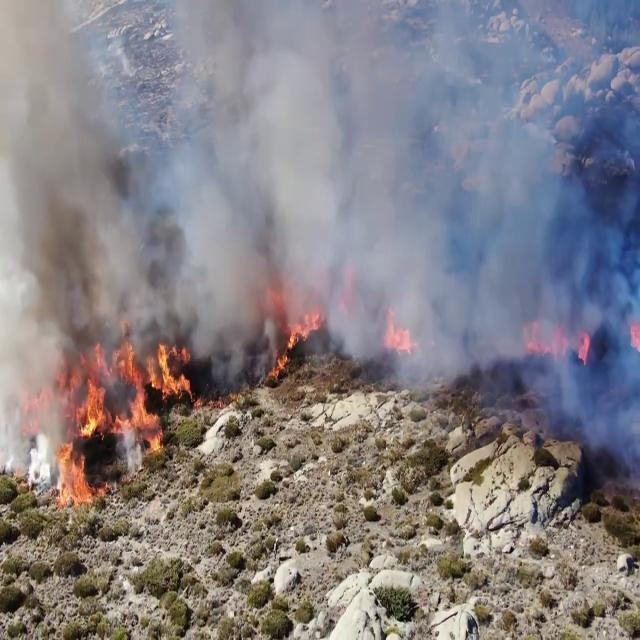Fire: (44, 323, 190, 515), (268, 298, 322, 378)
Smoke: (0, 1, 640, 416)
